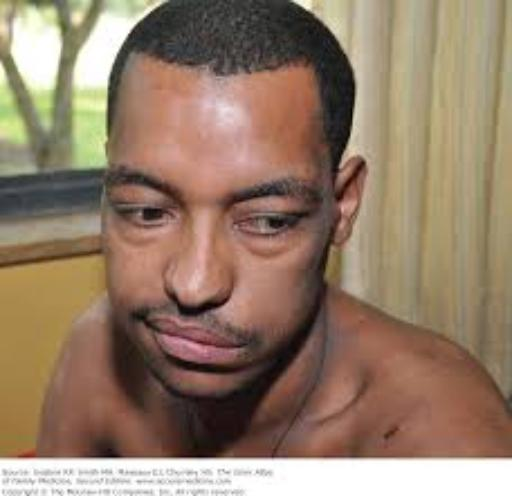left_eye: (237, 210, 308, 239)
left_lip_corner: (226, 338, 255, 357)
right_eye: (118, 205, 179, 229)
right_lip_corner: (139, 315, 165, 336)
